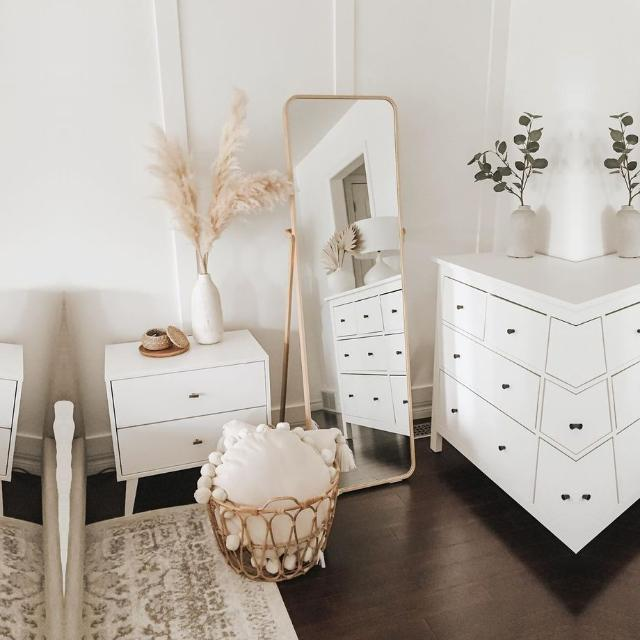chair: (194, 420, 353, 582)
plant: (148, 90, 290, 344), (468, 112, 548, 258), (603, 112, 640, 258)
rug: (82, 504, 297, 640), (0, 516, 44, 640)
table: (430, 254, 576, 548), (104, 331, 269, 514), (576, 255, 640, 548)
